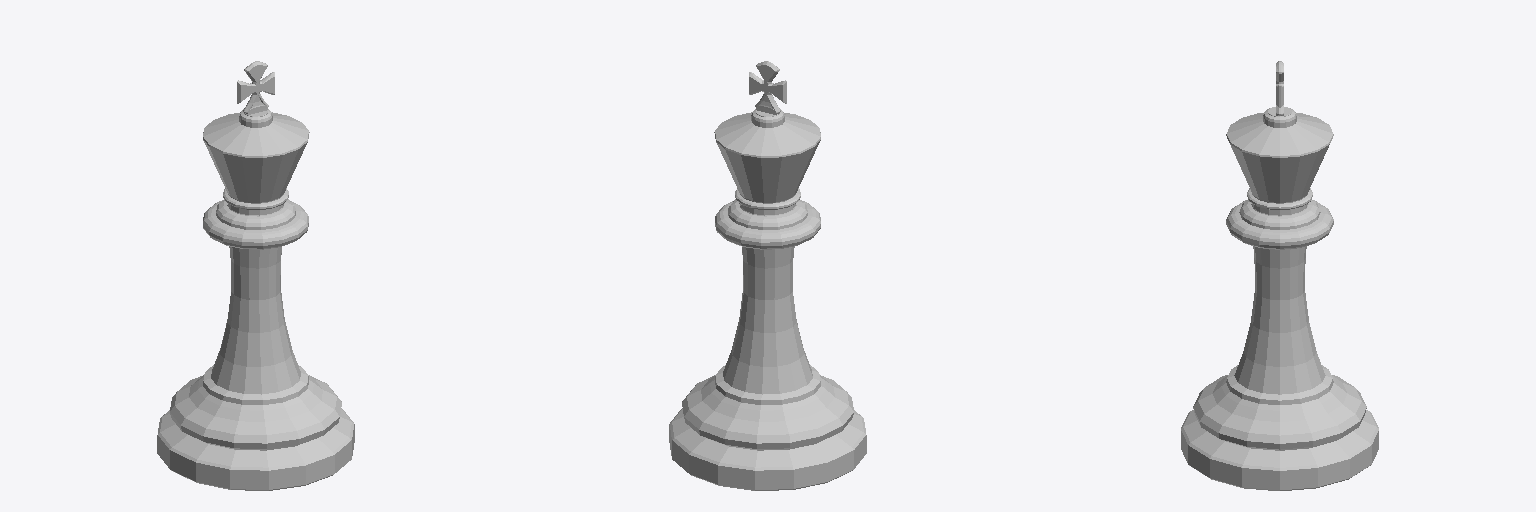
File: ChessPieces_King.obj
3 renders of one model, left to right at view 1: azimuth 30°, elevation 25°; view 2: azimuth 150°, elevation 25°; view 3: azimuth 270°, elevation 25°, orthographic.
Visible parts, largest first — view 1: King_Cylinder.004; view 2: King_Cylinder.004; view 3: King_Cylinder.004.
Part boxes in pixels (x1,y1,x2,y2): King_Cylinder.004: (157, 61, 354, 490); King_Cylinder.004: (669, 61, 866, 490); King_Cylinder.004: (1181, 61, 1378, 490).
Bounding box in the file's own units: 0.451 × 0.9738 × 0.451.